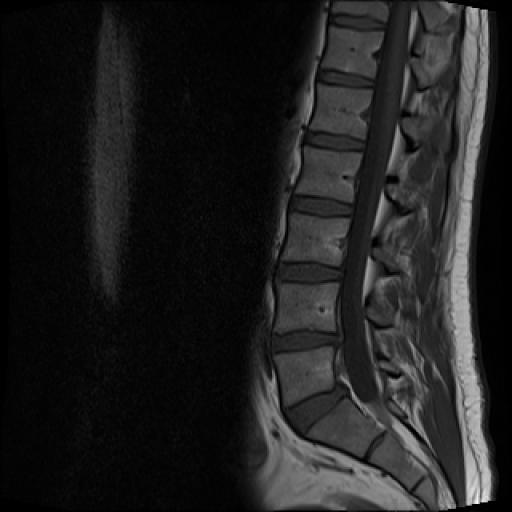L1: (309, 82, 373, 140)
L2: (295, 145, 363, 204)
L3: (279, 211, 350, 269)
L4: (275, 281, 340, 334)
L5: (274, 346, 334, 407)
S1: (304, 395, 385, 458)
